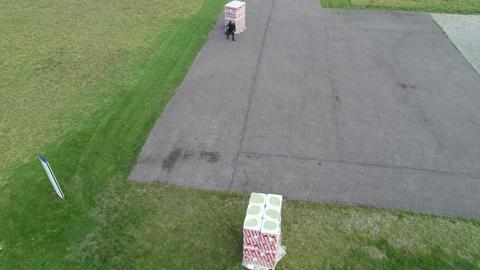RockwoolPallet: (242, 193, 283, 269)
